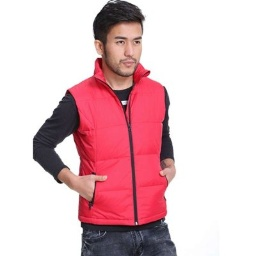face: (91, 1, 147, 78)
